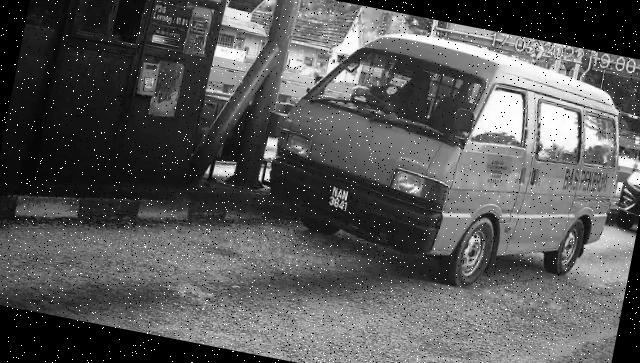License_Plate: (321, 181, 360, 220)
van: (257, 11, 639, 313)
